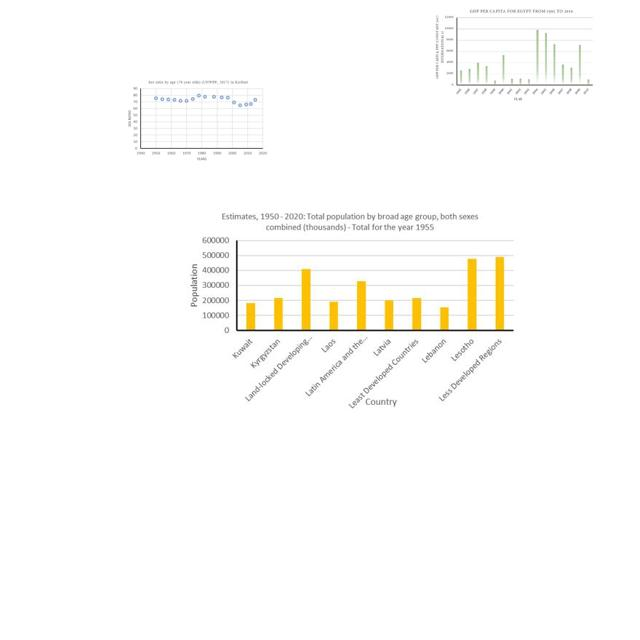Graph: (181, 207, 522, 410), (433, 6, 595, 102), (123, 75, 269, 162)
